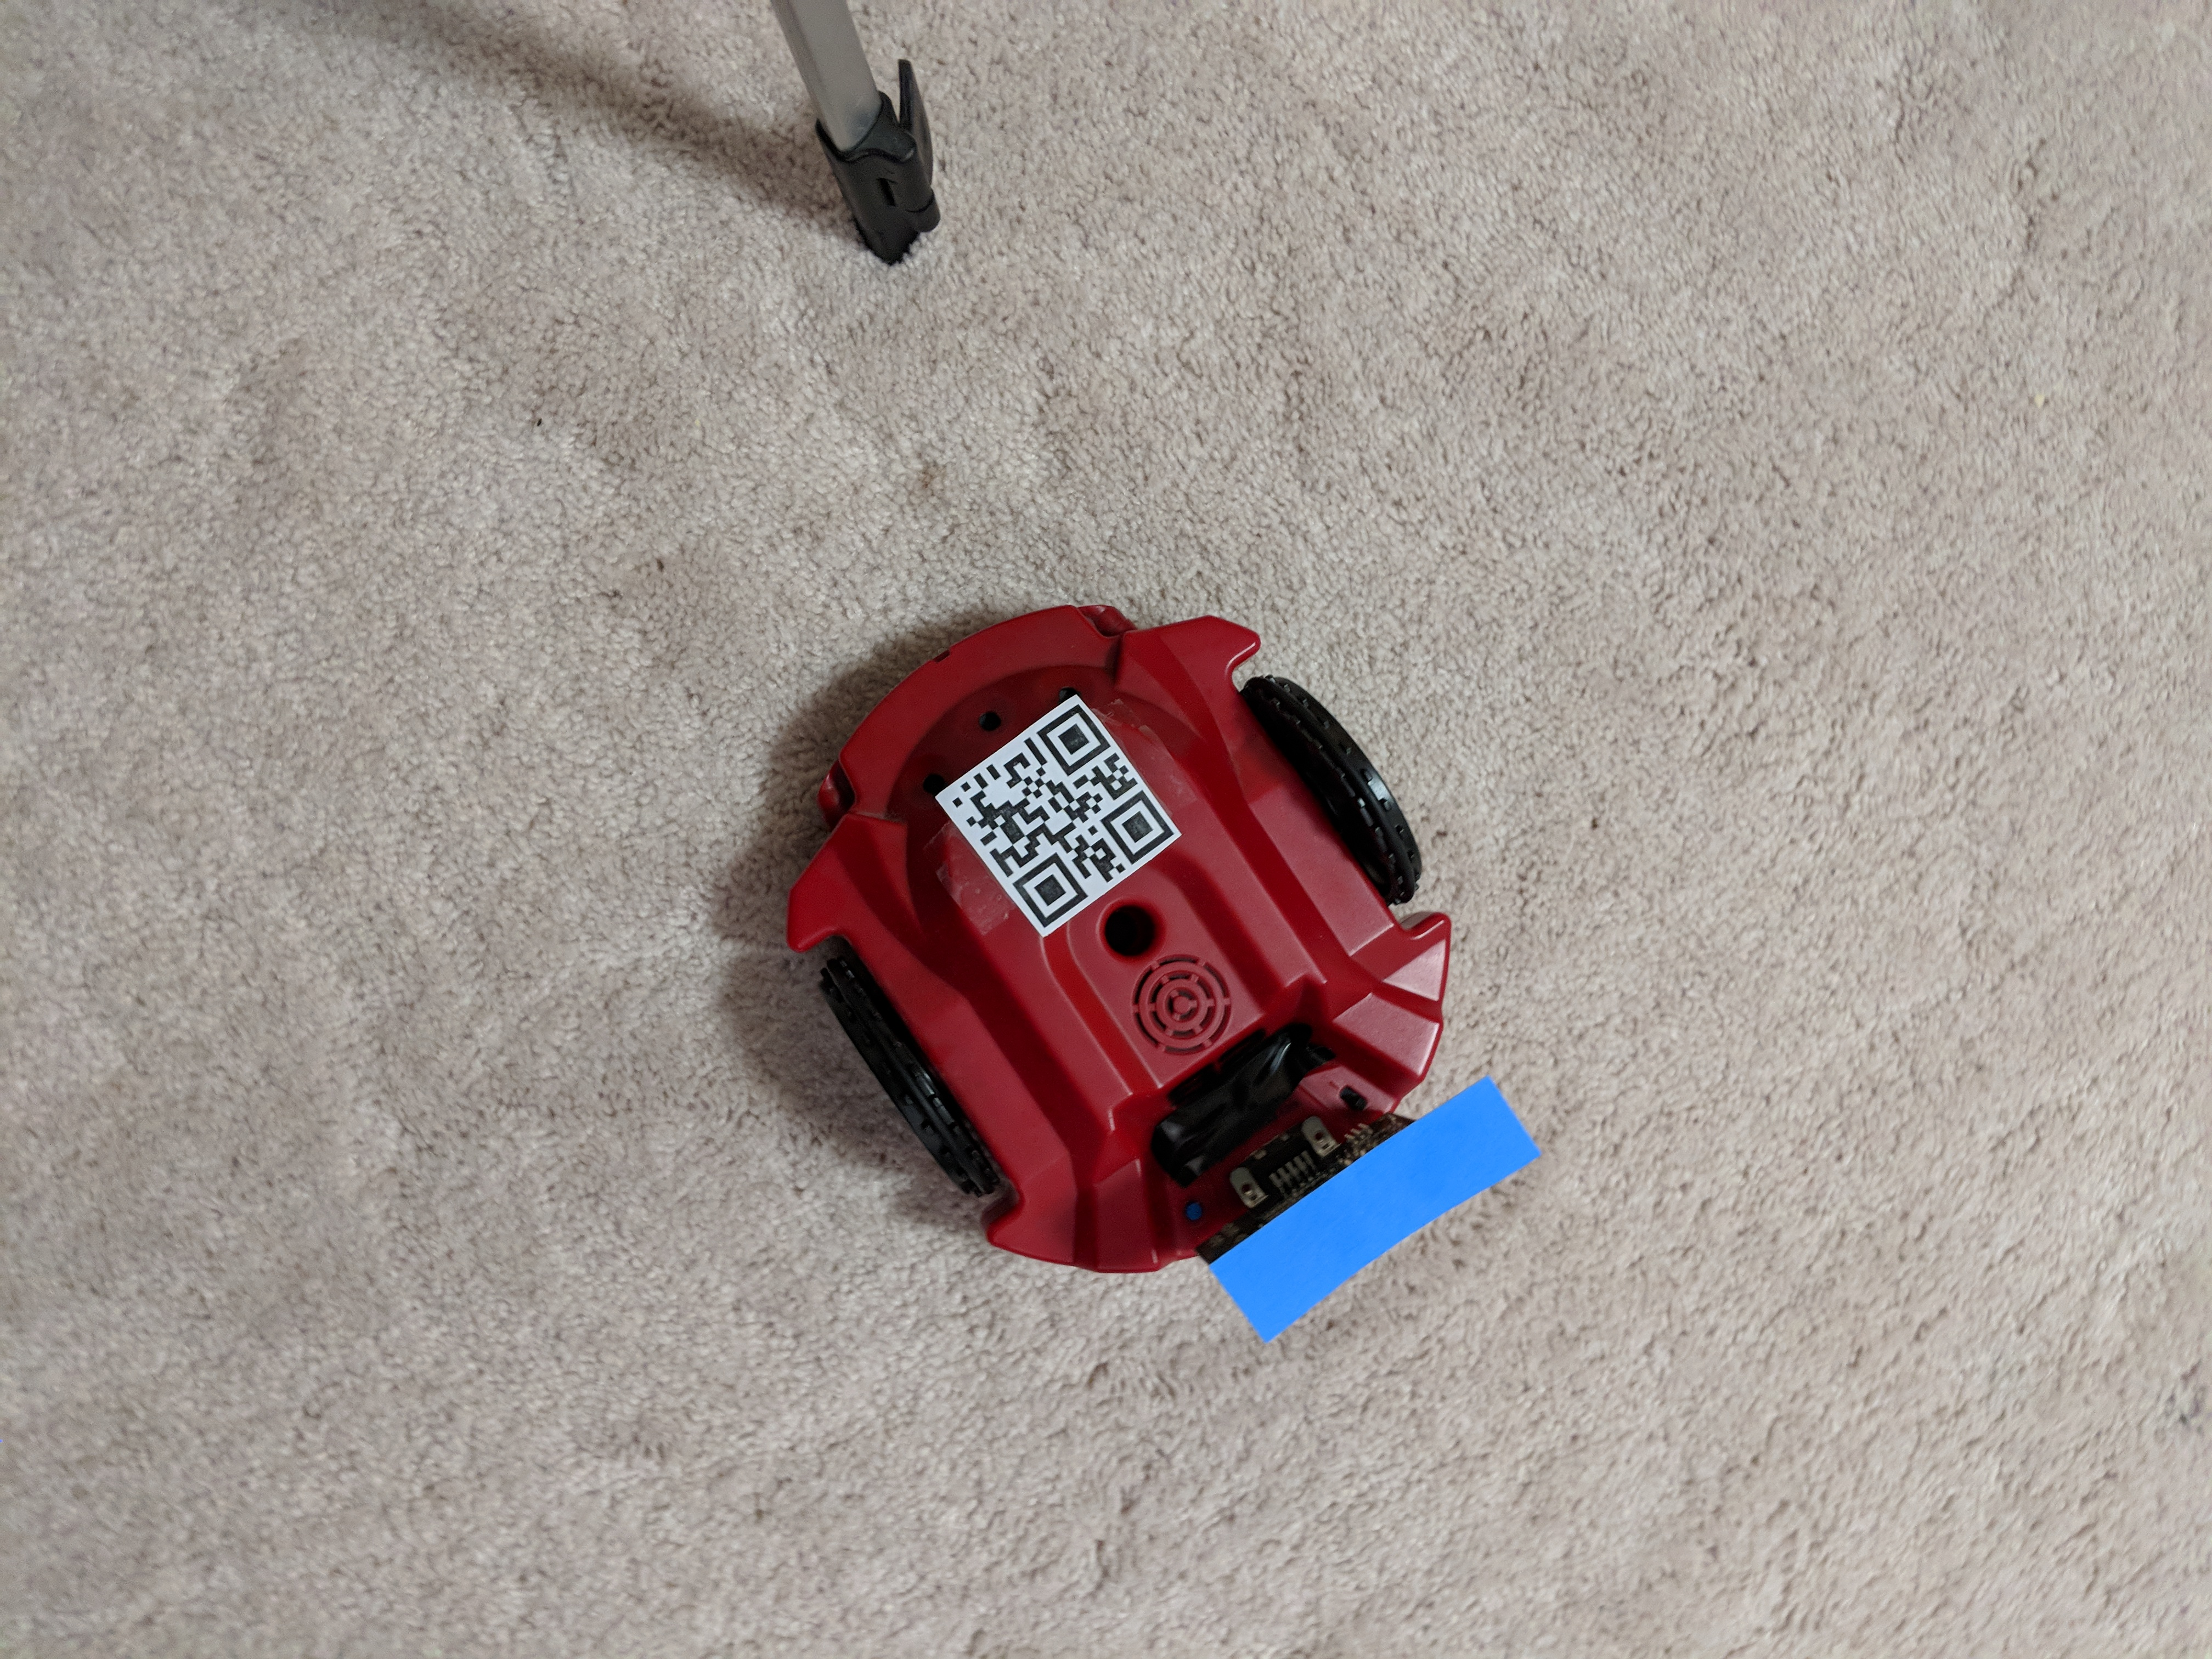chassis: (742, 589, 1500, 1298)
qr: (911, 695, 1177, 943)
